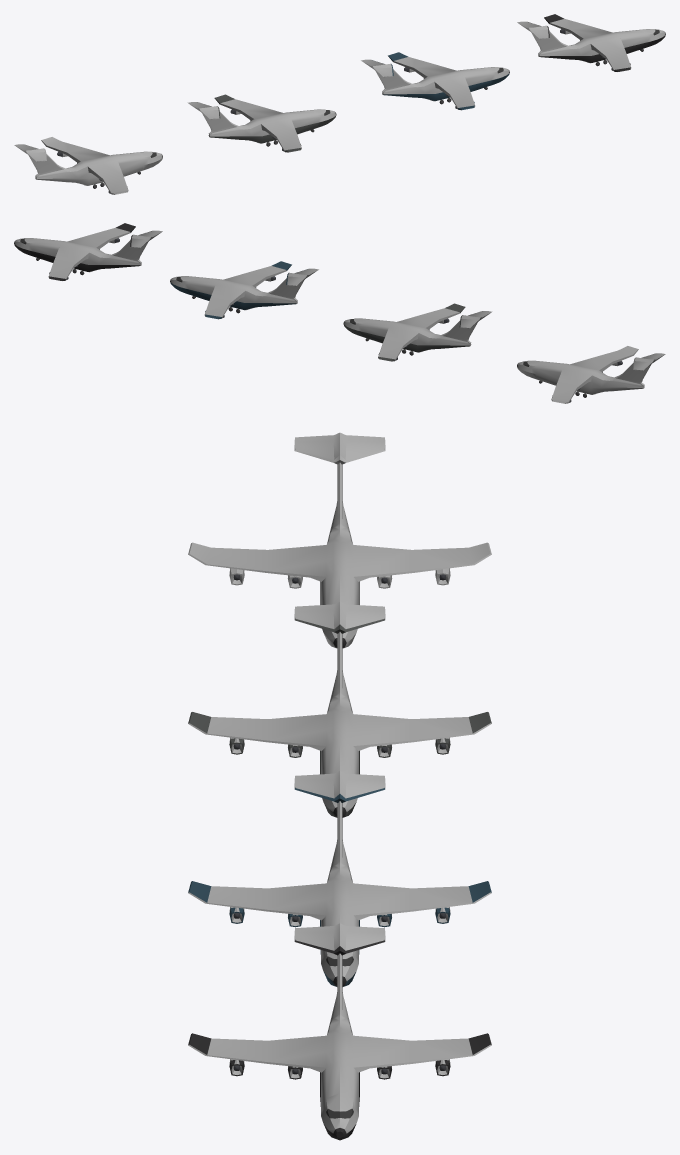
File: Cargo aircraft.fbx
The picture shows the model from 3 angles, top to bottom: view 1: azimuth 30°, elevation 25°; view 2: azimuth 150°, elevation 25°; view 3: azimuth 270°, elevation 25°; orthographic projection. The views are drawn at different scales.
Visible parts, largest first — view 1: Cargo Aircraft, Cargo Aircraft Blue, Cargo Aircraft Black, Cargo Aircraft Gree; view 2: Cargo Aircraft, Cargo Aircraft Blue, Cargo Aircraft Black, Cargo Aircraft Gree; view 3: Cargo Aircraft Black, Cargo Aircraft, Cargo Aircraft Gree, Cargo Aircraft Blue.
Part boxes in pixels (bbox=[...]): Cargo Aircraft: bbox=[14, 137, 162, 194]; Cargo Aircraft Blue: bbox=[361, 52, 509, 110]; Cargo Aircraft Black: bbox=[517, 14, 665, 71]; Cargo Aircraft Gree: bbox=[187, 94, 336, 152]; Cargo Aircraft: bbox=[517, 346, 665, 403]; Cargo Aircraft Blue: bbox=[170, 261, 318, 319]; Cargo Aircraft Black: bbox=[14, 223, 162, 280]; Cargo Aircraft Gree: bbox=[343, 303, 492, 361]; Cargo Aircraft Black: bbox=[188, 923, 491, 1140]; Cargo Aircraft: bbox=[188, 432, 491, 648]; Cargo Aircraft Gree: bbox=[188, 602, 491, 817]; Cargo Aircraft Blue: bbox=[188, 771, 491, 986].
Size of the model in its own units: 166 by 12.86 by 34.15.
